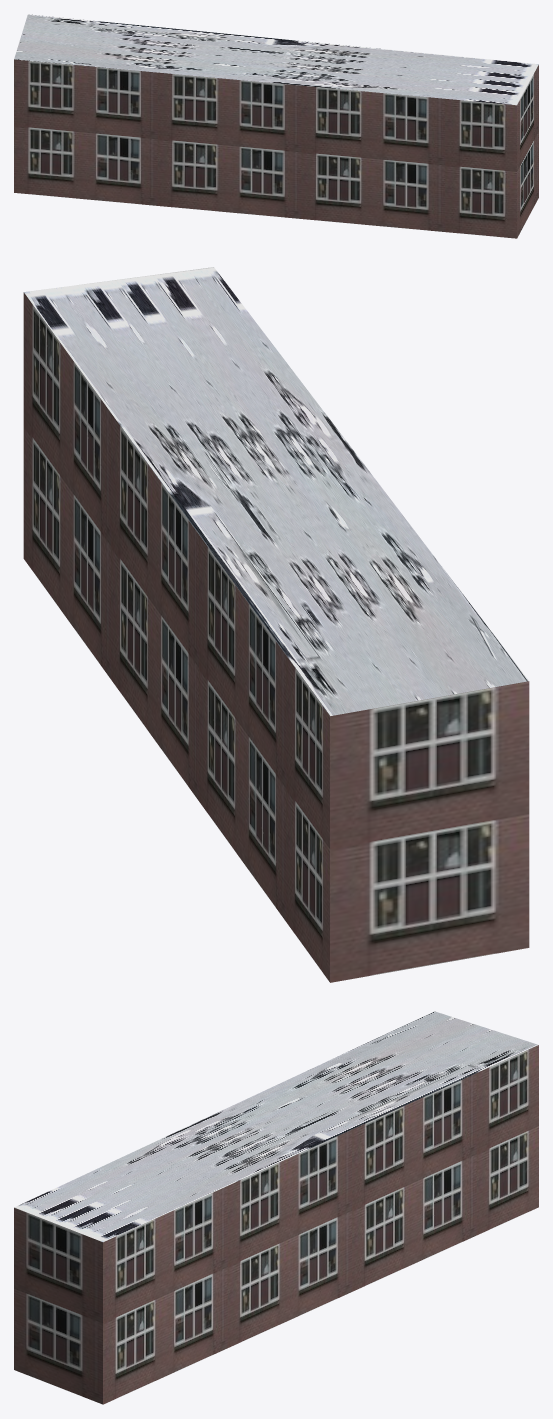
File: ResTex__4850.fbx
3 views of the same model, one above another, from view 1: azimuth 30°, elevation 25°; view 2: azimuth 150°, elevation 25°; view 3: azimuth 270°, elevation 25° (orthographic). The views are drawn at different scales.
Visible parts, largest first — view 1: CityEngineMaterial_12_m, CityEngineMaterial_4_m; view 2: CityEngineMaterial_12_m, CityEngineMaterial_4_m; view 3: CityEngineMaterial_12_m, CityEngineMaterial_4_m.
Part boxes in pixels (x1,y1,x2,y2): CityEngineMaterial_12_m: (14,59,538,238); CityEngineMaterial_4_m: (14,14,538,105); CityEngineMaterial_12_m: (23,292,529,982); CityEngineMaterial_4_m: (24,267,528,716); CityEngineMaterial_12_m: (14,1045,538,1404); CityEngineMaterial_4_m: (14,1011,538,1242).
Bounding box in the file's own units: 18.31 × 6 × 17.58.
Materials: 2 (2 with a texture image).
